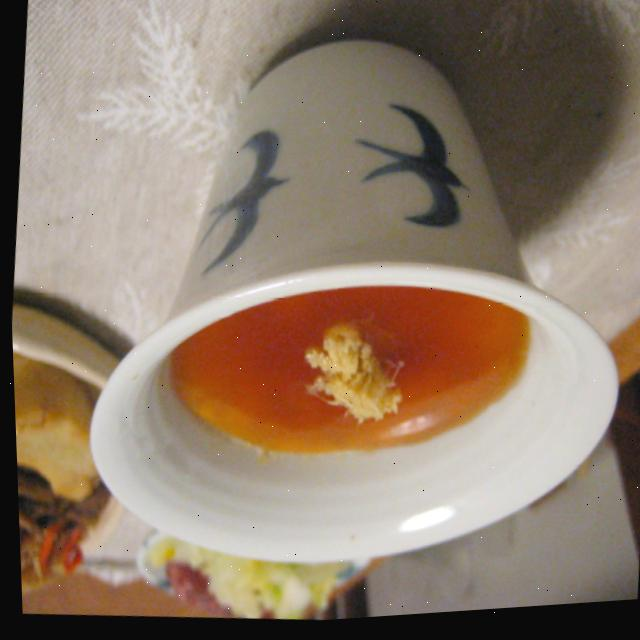鸡蛋料理: (123, 22, 590, 617)
